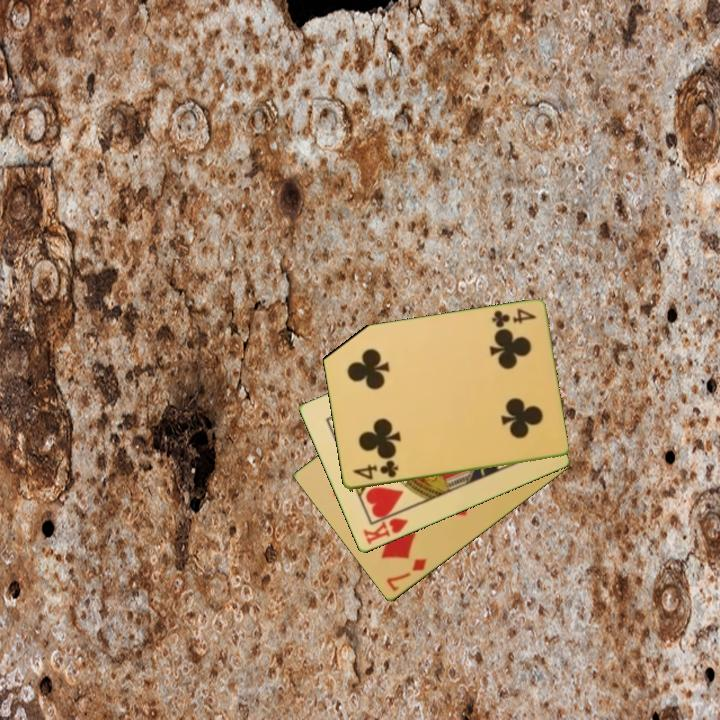4c: (349, 458, 401, 483), (488, 305, 538, 331)
7d: (383, 555, 429, 595)
Kh: (359, 507, 411, 548)
